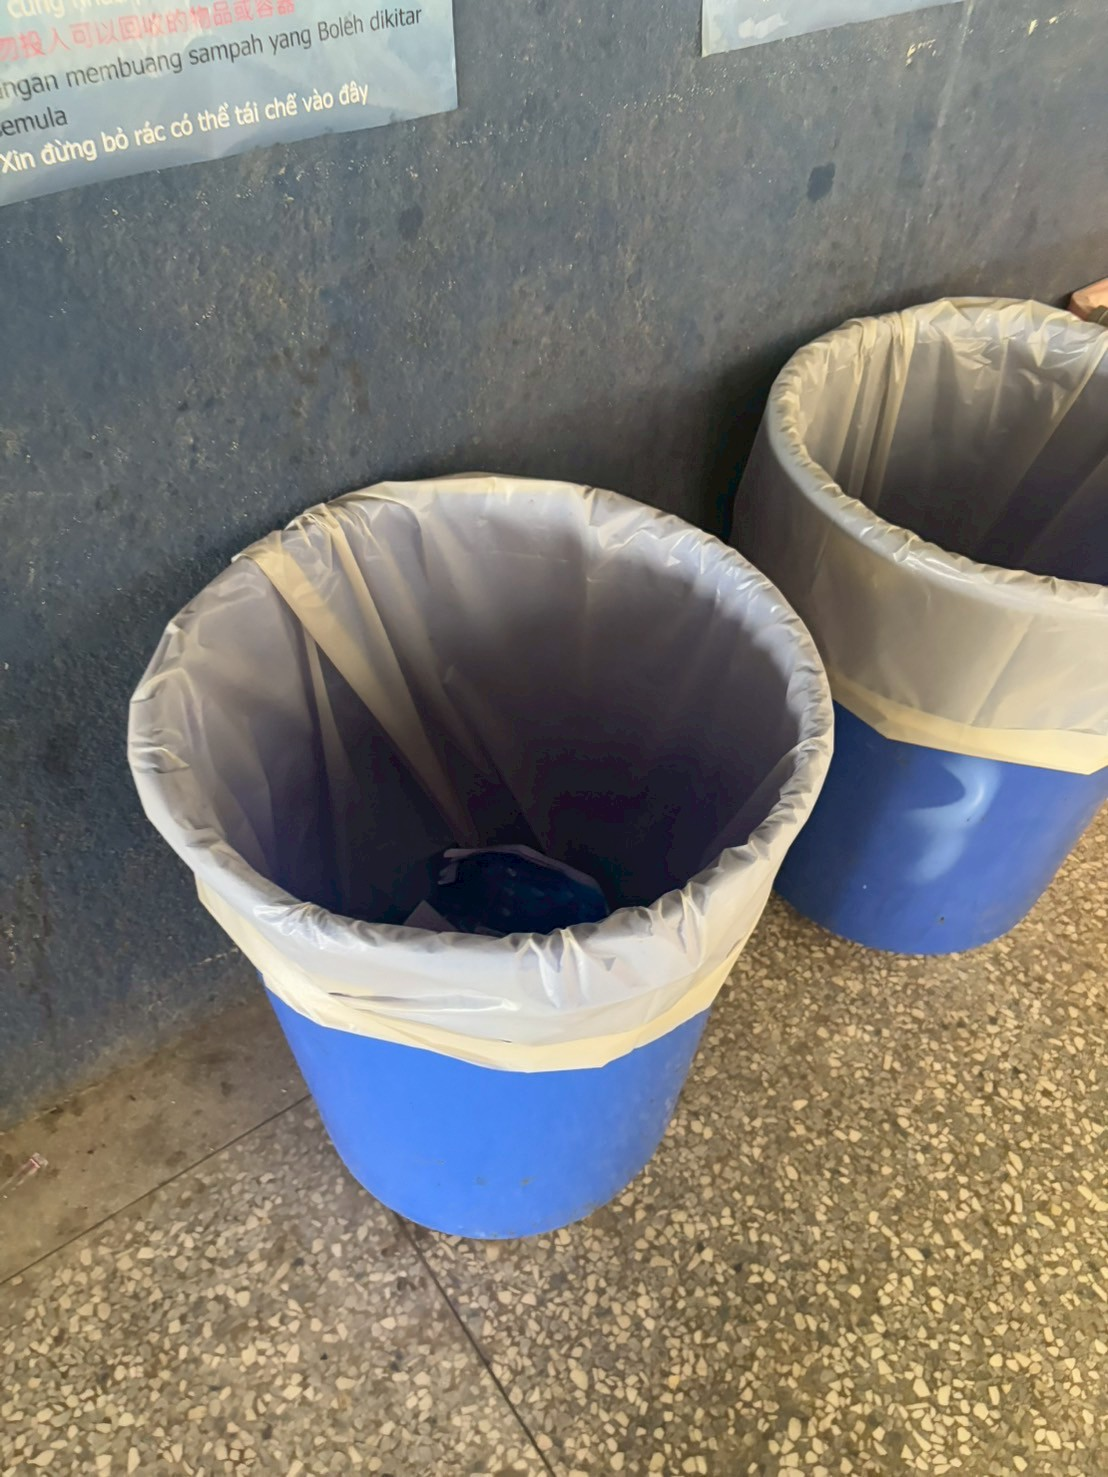normal_bin: (129, 467, 876, 1252)
